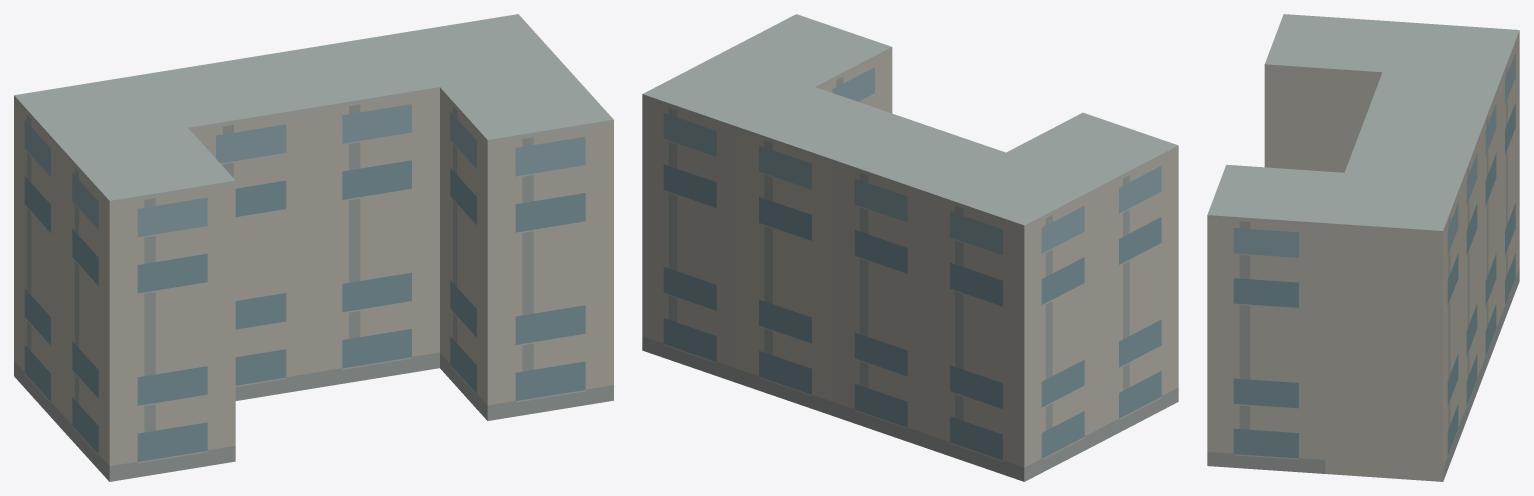
The model's file is residential-492420fb-9d1d-4d4f-aa3b-98cccfc14143.glb.
3 renders of one model, left to right at view 1: azimuth 30°, elevation 25°; view 2: azimuth 150°, elevation 25°; view 3: azimuth 270°, elevation 25°, orthographic. The views are drawn at different scales.
Visible parts, largest first — view 1: residential-492420fb-9d1d-4d4f-aa3b-98cccfc14143.tmp; view 2: residential-492420fb-9d1d-4d4f-aa3b-98cccfc14143.tmp; view 3: residential-492420fb-9d1d-4d4f-aa3b-98cccfc14143.tmp.
Boxes of the visible parts, bbox=[...] form: residential-492420fb-9d1d-4d4f-aa3b-98cccfc14143.tmp: bbox=[14, 14, 613, 481]; residential-492420fb-9d1d-4d4f-aa3b-98cccfc14143.tmp: bbox=[642, 14, 1178, 481]; residential-492420fb-9d1d-4d4f-aa3b-98cccfc14143.tmp: bbox=[1207, 14, 1519, 481].
Size of the model in its own units: 28.3 by 15.25 by 17.22.
